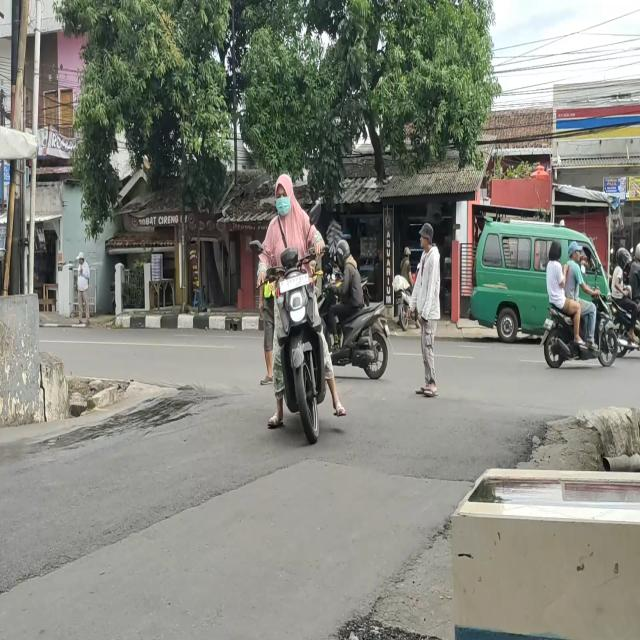helmet: (336, 240, 351, 267), (618, 248, 629, 270), (634, 240, 640, 260)
no-helmet: (272, 176, 294, 216), (546, 238, 563, 264), (568, 243, 584, 264), (401, 242, 410, 259)
